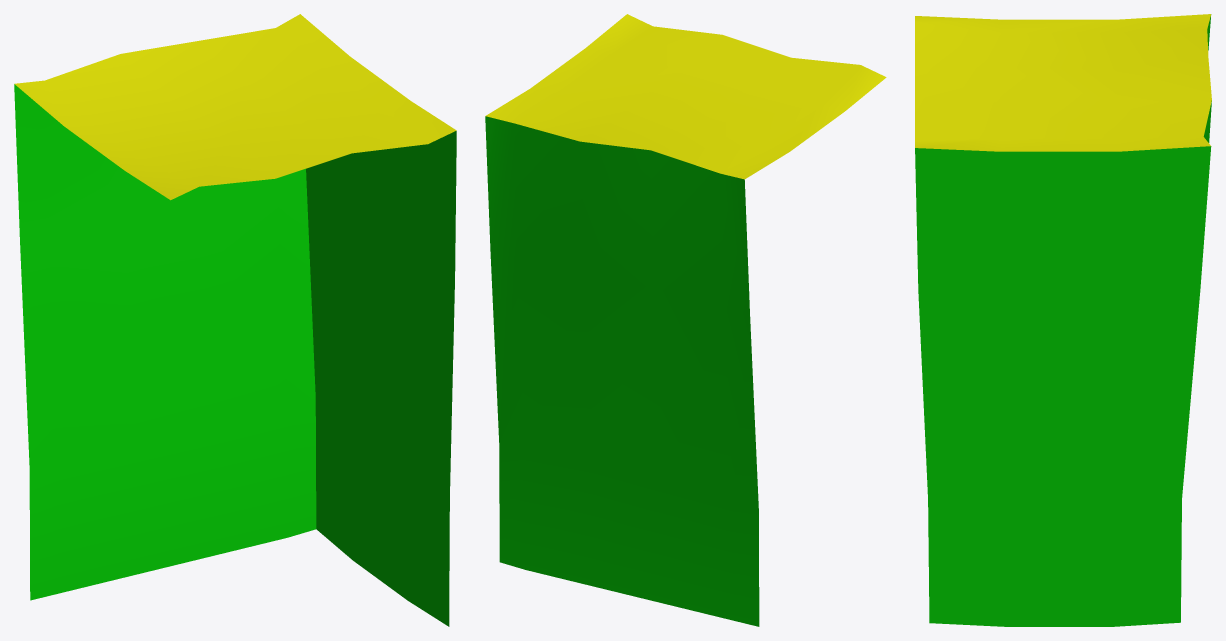
The model's file is sm_Ground_BackEnd.fbx.
The picture shows the model from 3 angles, left to right: view 1: azimuth 30°, elevation 25°; view 2: azimuth 150°, elevation 25°; view 3: azimuth 270°, elevation 25°; orthographic projection. The views are drawn at different scales.
Parts seen in each view (by area): view 1: Ground_Back; view 2: Ground_Back; view 3: Ground_Back.
Part boxes in pixels (box(x1,y1,x2,y2)): Ground_Back: box(14, 14, 456, 626); Ground_Back: box(485, 14, 886, 626); Ground_Back: box(915, 14, 1211, 626).
Size of the model in its own units: 600 by 1029 by 570.
